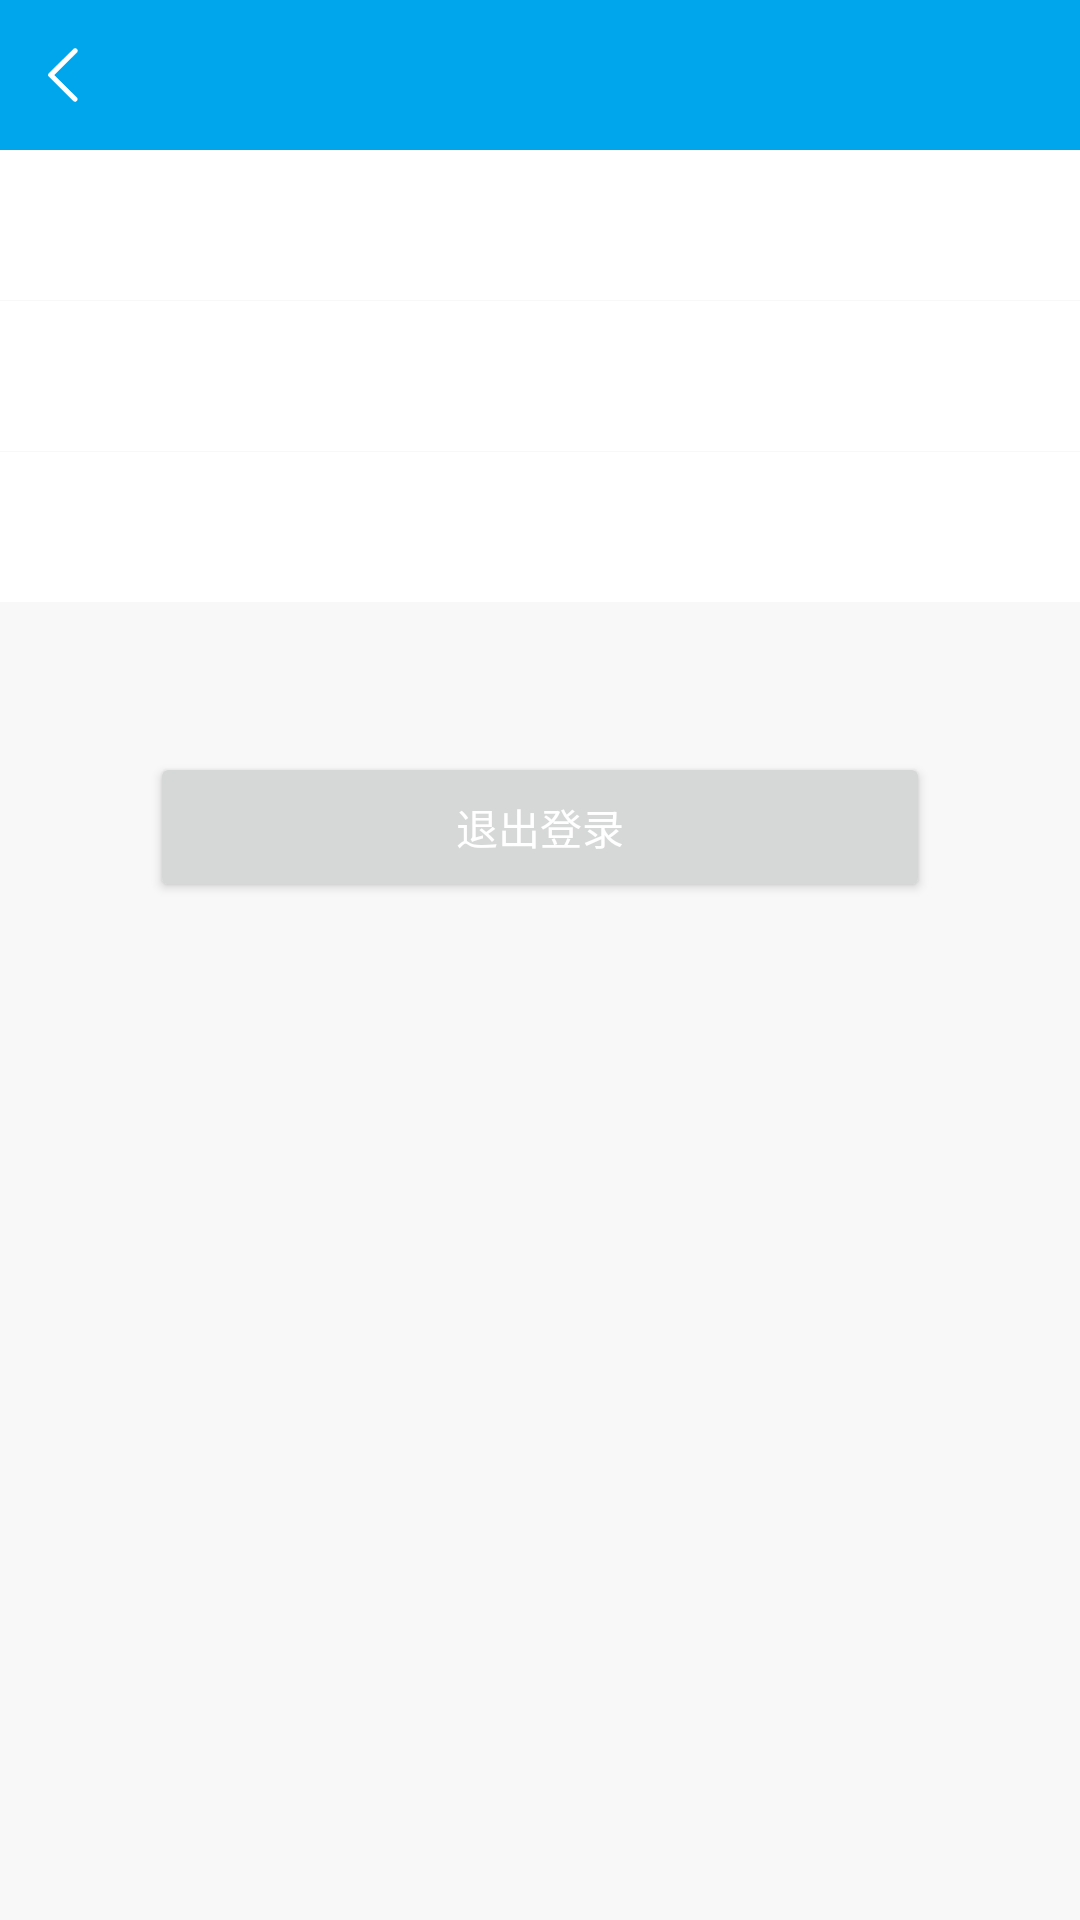

Screen size 1080 x 1920. Icon name, then its box in pixels as (x1, y1, x2, y2):
arrow: (48, 48, 78, 102)
